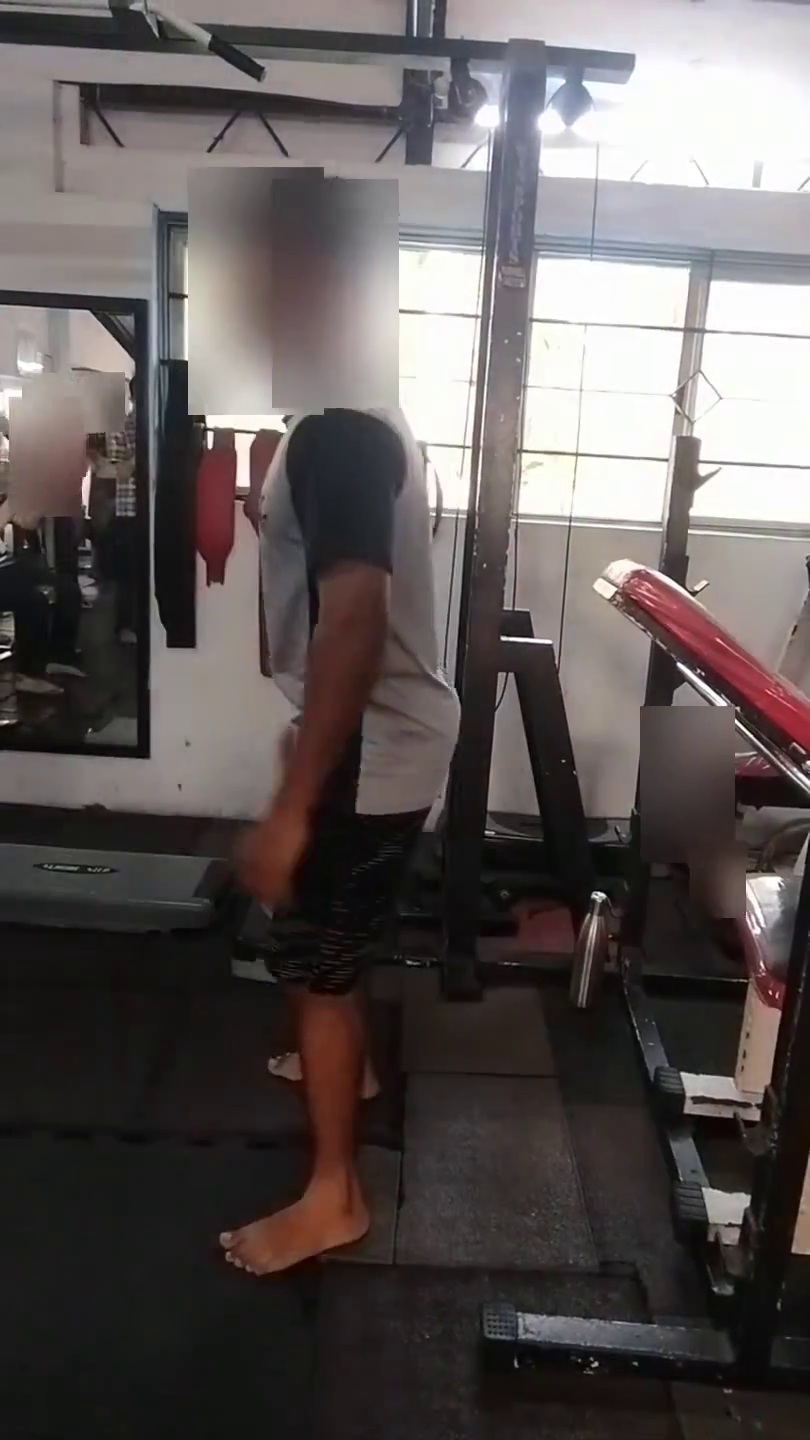squat_correct: (197, 396, 440, 1002)
